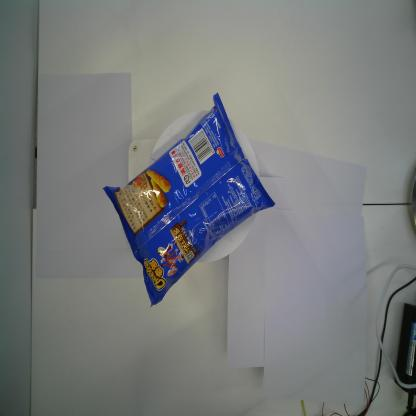Puffed Food: (102, 91, 277, 310)
